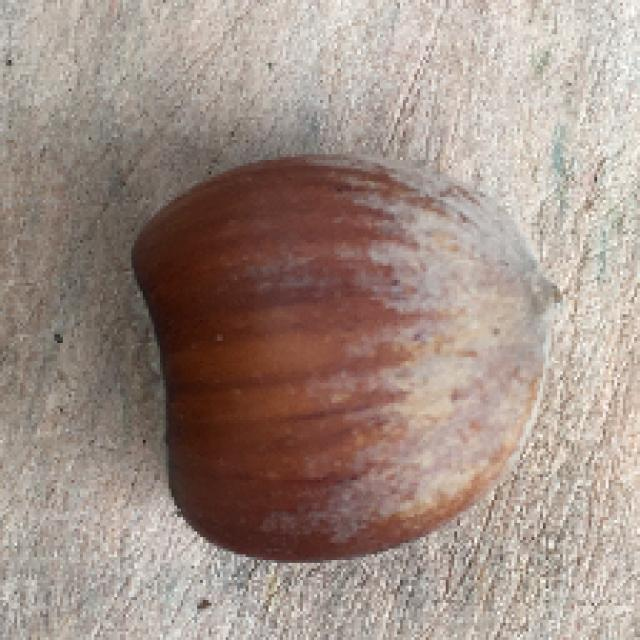qualityHazelnut: (125, 144, 568, 566)
